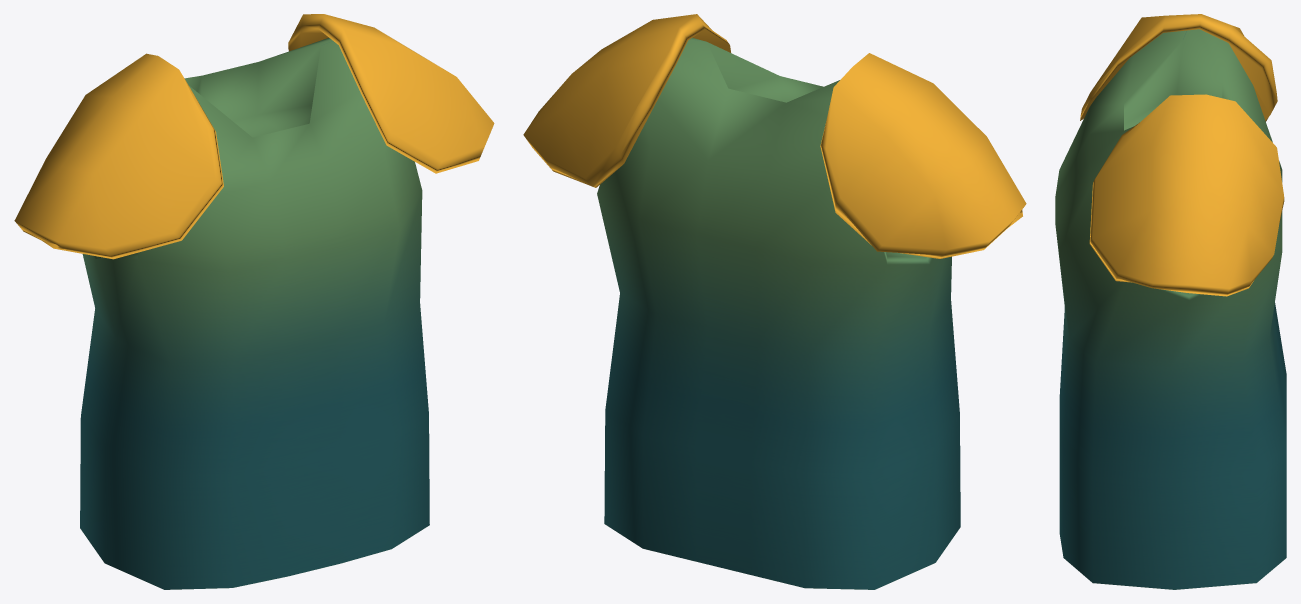
File: Chest01.fbx
3 renders of one model, left to right at view 1: azimuth 30°, elevation 25°; view 2: azimuth 150°, elevation 25°; view 3: azimuth 270°, elevation 25°, orthographic. The views are drawn at different scales.
Visible parts, largest first — view 1: Chest01; view 2: Chest01; view 3: Chest01.
Boxes of the visible parts, left/top/right/bottom form: Chest01: left=14, top=14, right=494, bottom=589; Chest01: left=523, top=14, right=1026, bottom=589; Chest01: left=1055, top=14, right=1286, bottom=589.
Bounding box in the file's own units: 62.15 × 62.56 × 28.08.
Materials: 1 (1 with a texture image).
